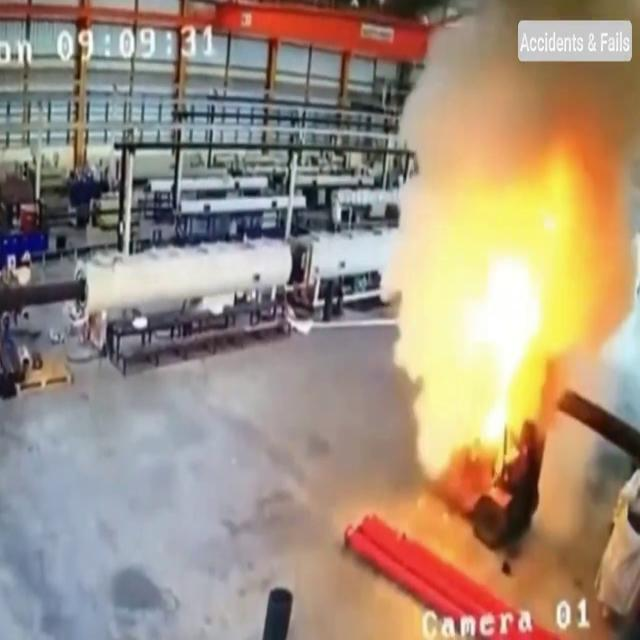Fire: (417, 139, 601, 489)
Smoke: (386, 0, 640, 191)
